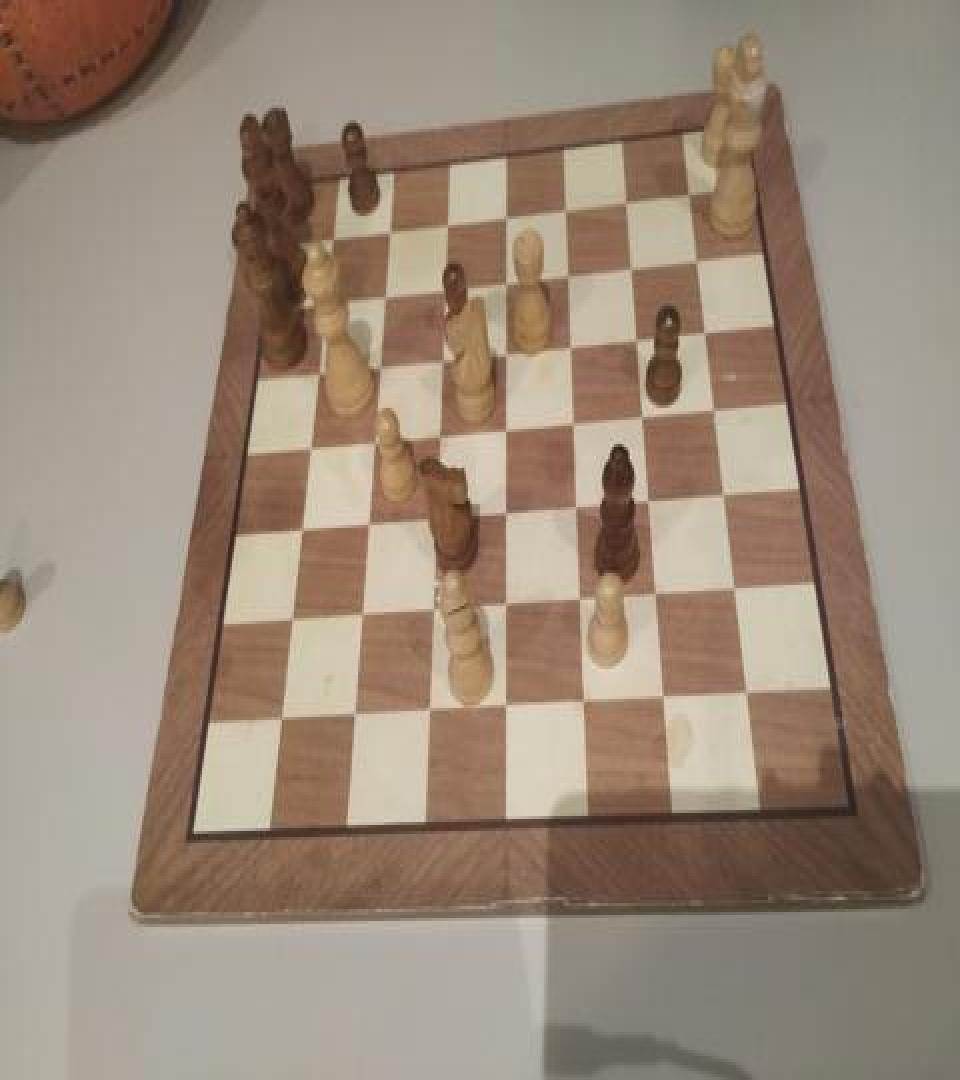xcorner: (704, 397, 724, 428), (373, 280, 393, 311), (268, 708, 288, 738), (419, 700, 439, 730), (575, 693, 595, 723), (739, 686, 759, 716), (350, 603, 370, 633), (422, 598, 442, 628), (496, 594, 516, 624), (571, 590, 591, 620), (648, 585, 668, 615), (289, 516, 309, 546), (356, 512, 376, 542), (425, 506, 445, 536), (496, 501, 516, 531), (567, 495, 587, 525), (640, 490, 660, 520), (715, 484, 735, 514), (297, 432, 317, 462), (362, 428, 382, 458), (428, 422, 448, 452), (495, 416, 515, 446), (564, 410, 584, 440), (633, 404, 653, 434), (305, 357, 325, 387), (368, 351, 388, 381), (431, 345, 451, 375), (495, 338, 515, 368), (561, 332, 581, 362), (627, 326, 647, 356), (695, 320, 715, 350), (313, 286, 333, 316), (433, 273, 453, 303), (495, 267, 515, 297), (558, 261, 578, 291), (621, 254, 641, 284), (686, 248, 706, 278), (320, 222, 340, 252), (377, 214, 397, 244), (435, 208, 455, 238), (495, 201, 515, 231), (555, 195, 575, 225), (616, 188, 636, 218), (678, 180, 698, 210), (343, 704, 363, 733), (496, 698, 516, 727), (656, 689, 676, 718), (279, 608, 299, 637), (726, 581, 746, 610)
